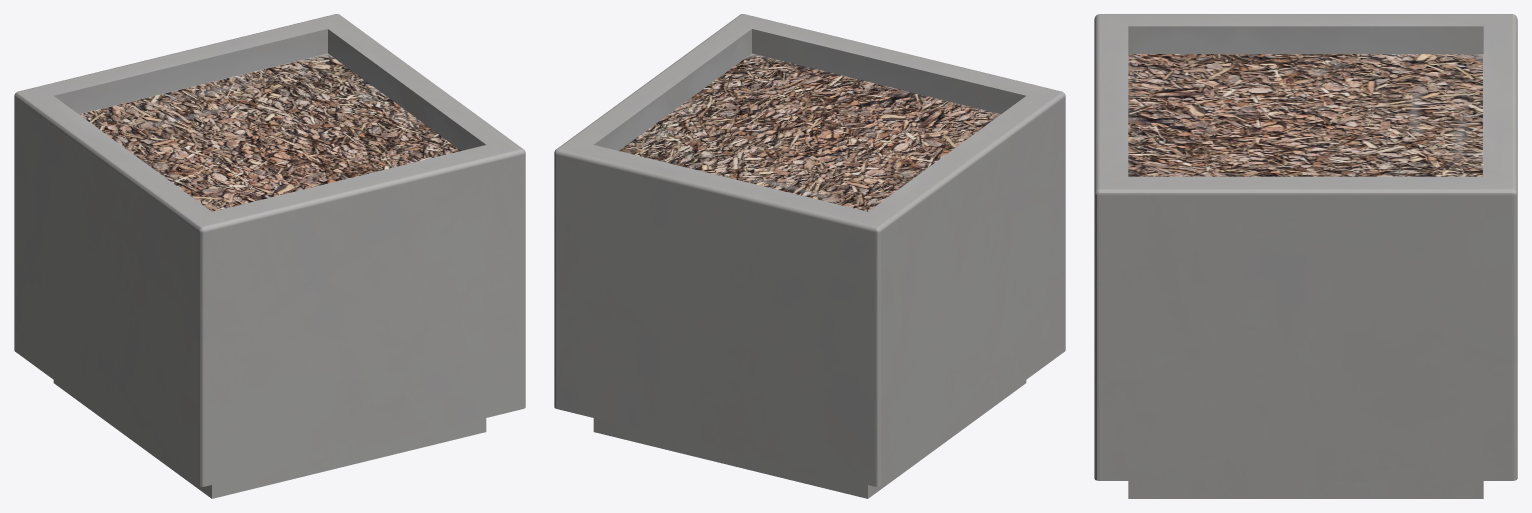
The model's file is planter_box.glb.
The picture shows the model from 3 angles, left to right: view 1: azimuth 30°, elevation 25°; view 2: azimuth 150°, elevation 25°; view 3: azimuth 270°, elevation 25°; orthographic projection. The views are drawn at different scales.
Parts seen in each view (by area): view 1: planter_w; view 2: planter_w; view 3: planter_w.
Part boxes in pixels (x1,y1,x2,y2): planter_w: [14, 14, 525, 498]; planter_w: [554, 14, 1065, 498]; planter_w: [1094, 14, 1517, 498].
Bounding box in the file's own units: 0.9044 × 0.76 × 0.9044.
1 material, 1 textured.
